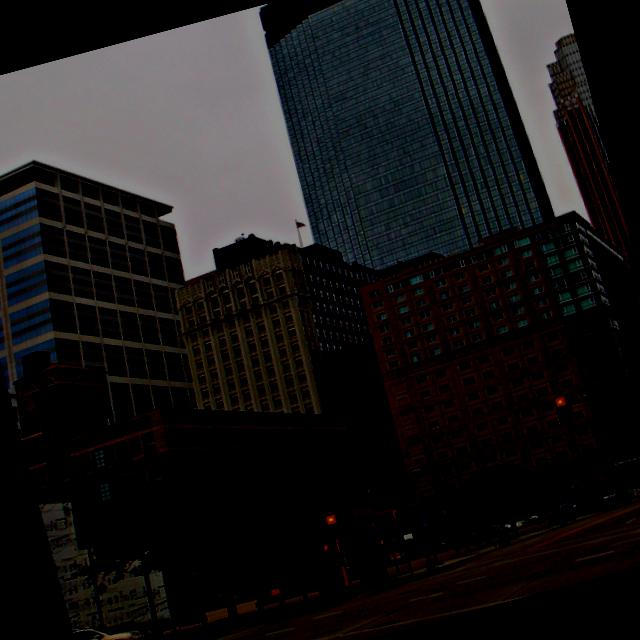Vehicle: (72, 608, 158, 640), (412, 535, 450, 559), (492, 514, 532, 536), (437, 528, 474, 550), (206, 590, 242, 608), (548, 500, 578, 516), (602, 488, 622, 504), (470, 526, 490, 539)
